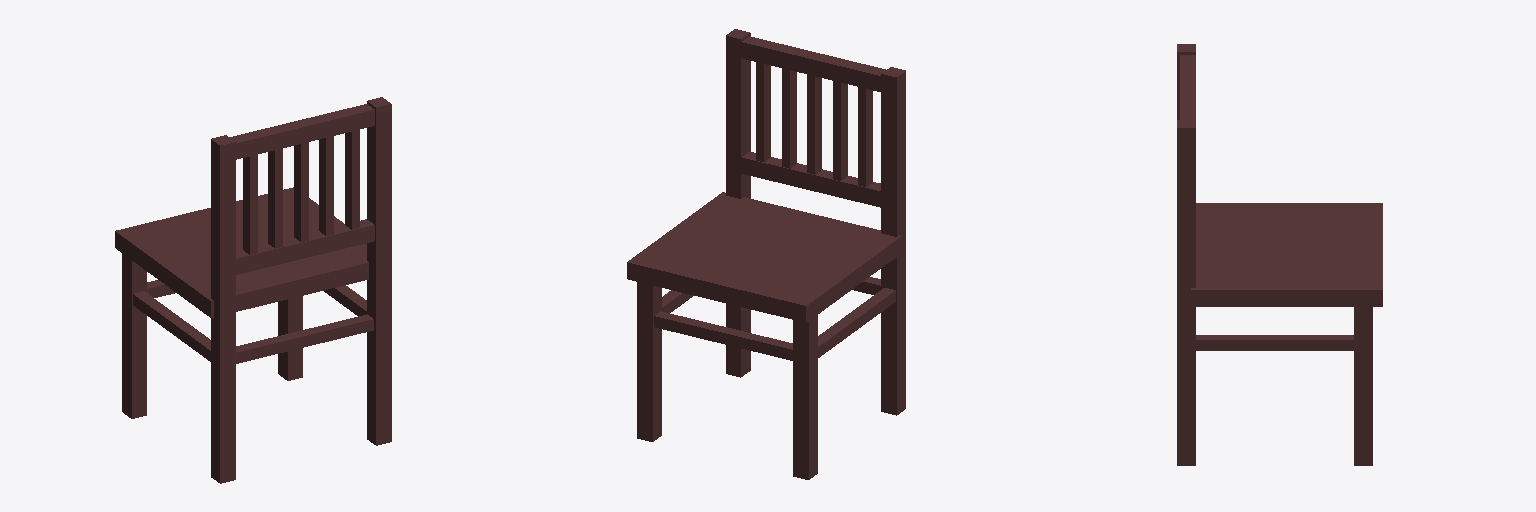
Rendered from chair1.obj.
3 views of the same model, side by side, from view 1: azimuth 30°, elevation 25°; view 2: azimuth 150°, elevation 25°; view 3: azimuth 270°, elevation 25° (orthographic).
Visible parts, largest first — view 1: chair1; view 2: chair1; view 3: chair1.
Part boxes in pixels (left/top/right/bottom): chair1: left=115, top=97, right=391, bottom=483; chair1: left=627, top=29, right=905, bottom=479; chair1: left=1177, top=44, right=1382, bottom=465.
Bounding box in the file's own units: 0.5412 × 0.9733 × 0.536.